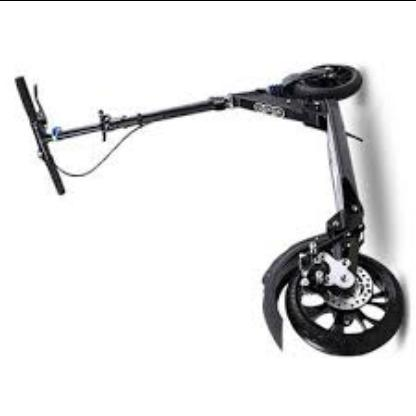bike: (5, 64, 404, 358)
